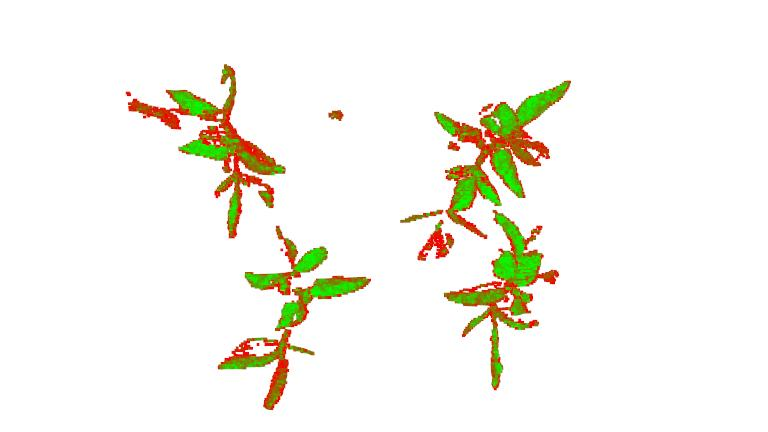mungbean: (406, 72, 576, 259), (224, 230, 376, 413), (443, 211, 573, 392), (165, 62, 287, 238)
